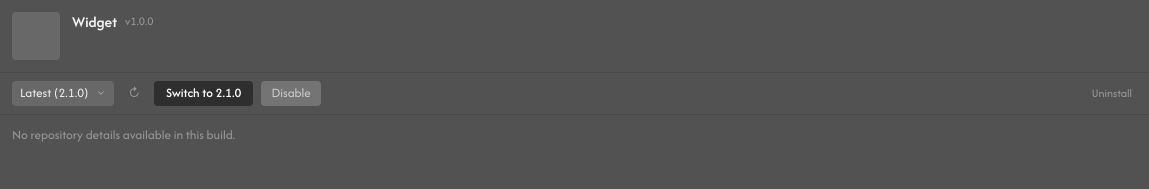
Test case: ExtensionDetail version picker › offers no switch to the version already installed
Click the dropdown named "Version". click: x=63, y=93
box: [12,81,114,106]
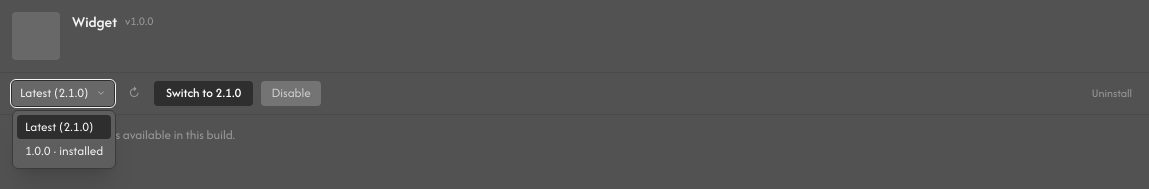
Click the option "1.0.0 · installed". click: x=64, y=150
box: [25,142,103,159]
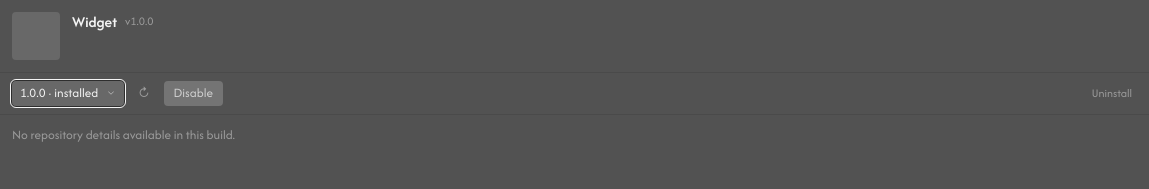
Expected: the button "Switch to" is gone
